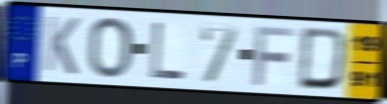7: (198, 21, 240, 86)
D: (296, 26, 350, 93)
F: (251, 23, 299, 88)
K: (42, 13, 82, 78)
L: (148, 20, 188, 82)
O: (87, 15, 135, 80)
